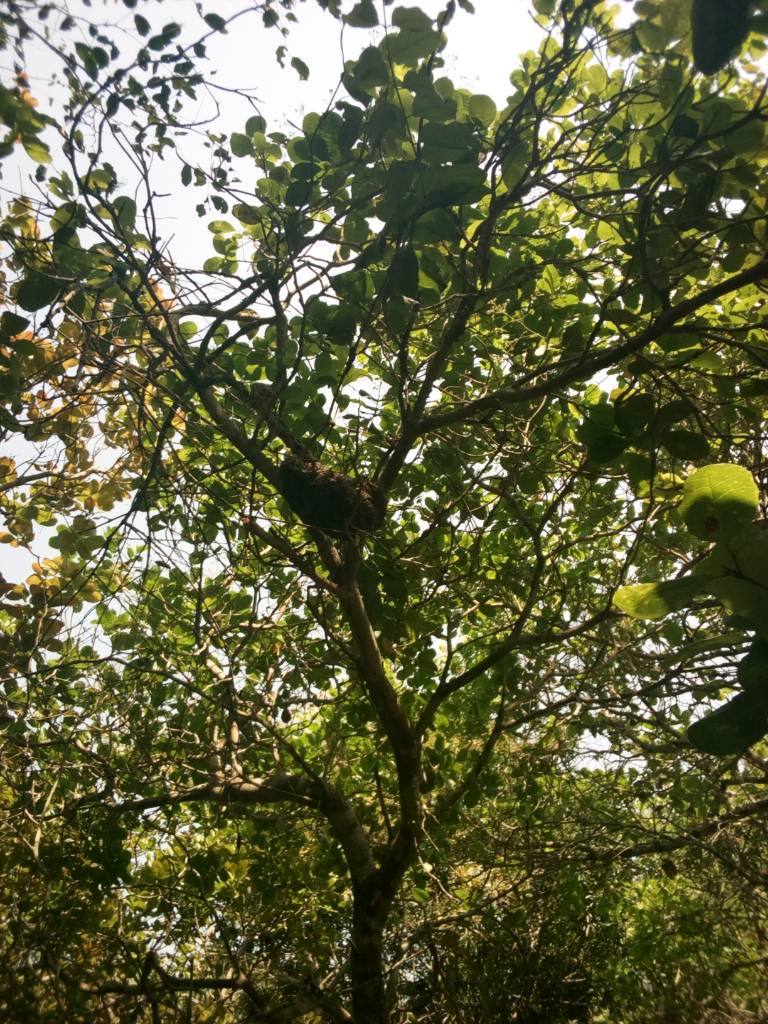Virose: (266, 451, 411, 548)
